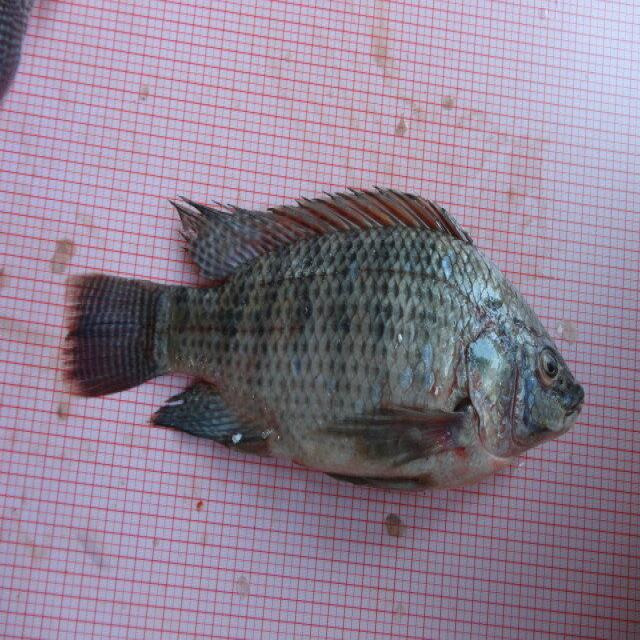ikan: (64, 176, 603, 507)
